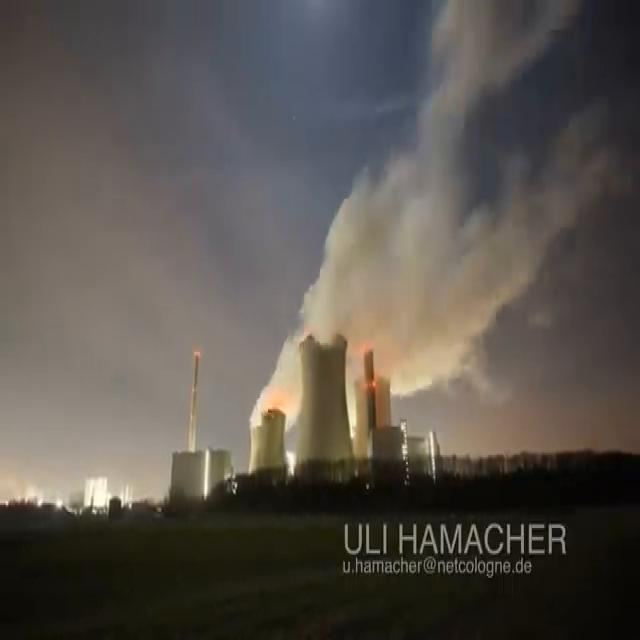smoke: (251, 0, 640, 453)
